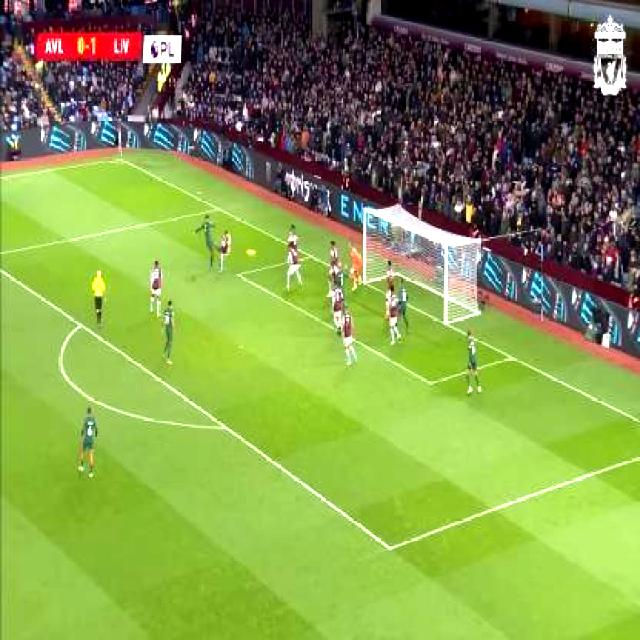bigarea_bottom_inner: (383, 537, 397, 560)
bigarea_top_outter: (214, 203, 221, 215)
bottom_arc_area_intersection: (218, 418, 231, 437)
corner: (114, 154, 125, 168)
smallarea_bottom_inner: (426, 374, 437, 392)
smallarea_bottom_outter: (508, 350, 515, 364)
smallarea_top_inner: (235, 268, 243, 282)
smallarea_top_outter: (308, 250, 314, 262)
top_arc_area_intersection: (77, 317, 85, 331)
